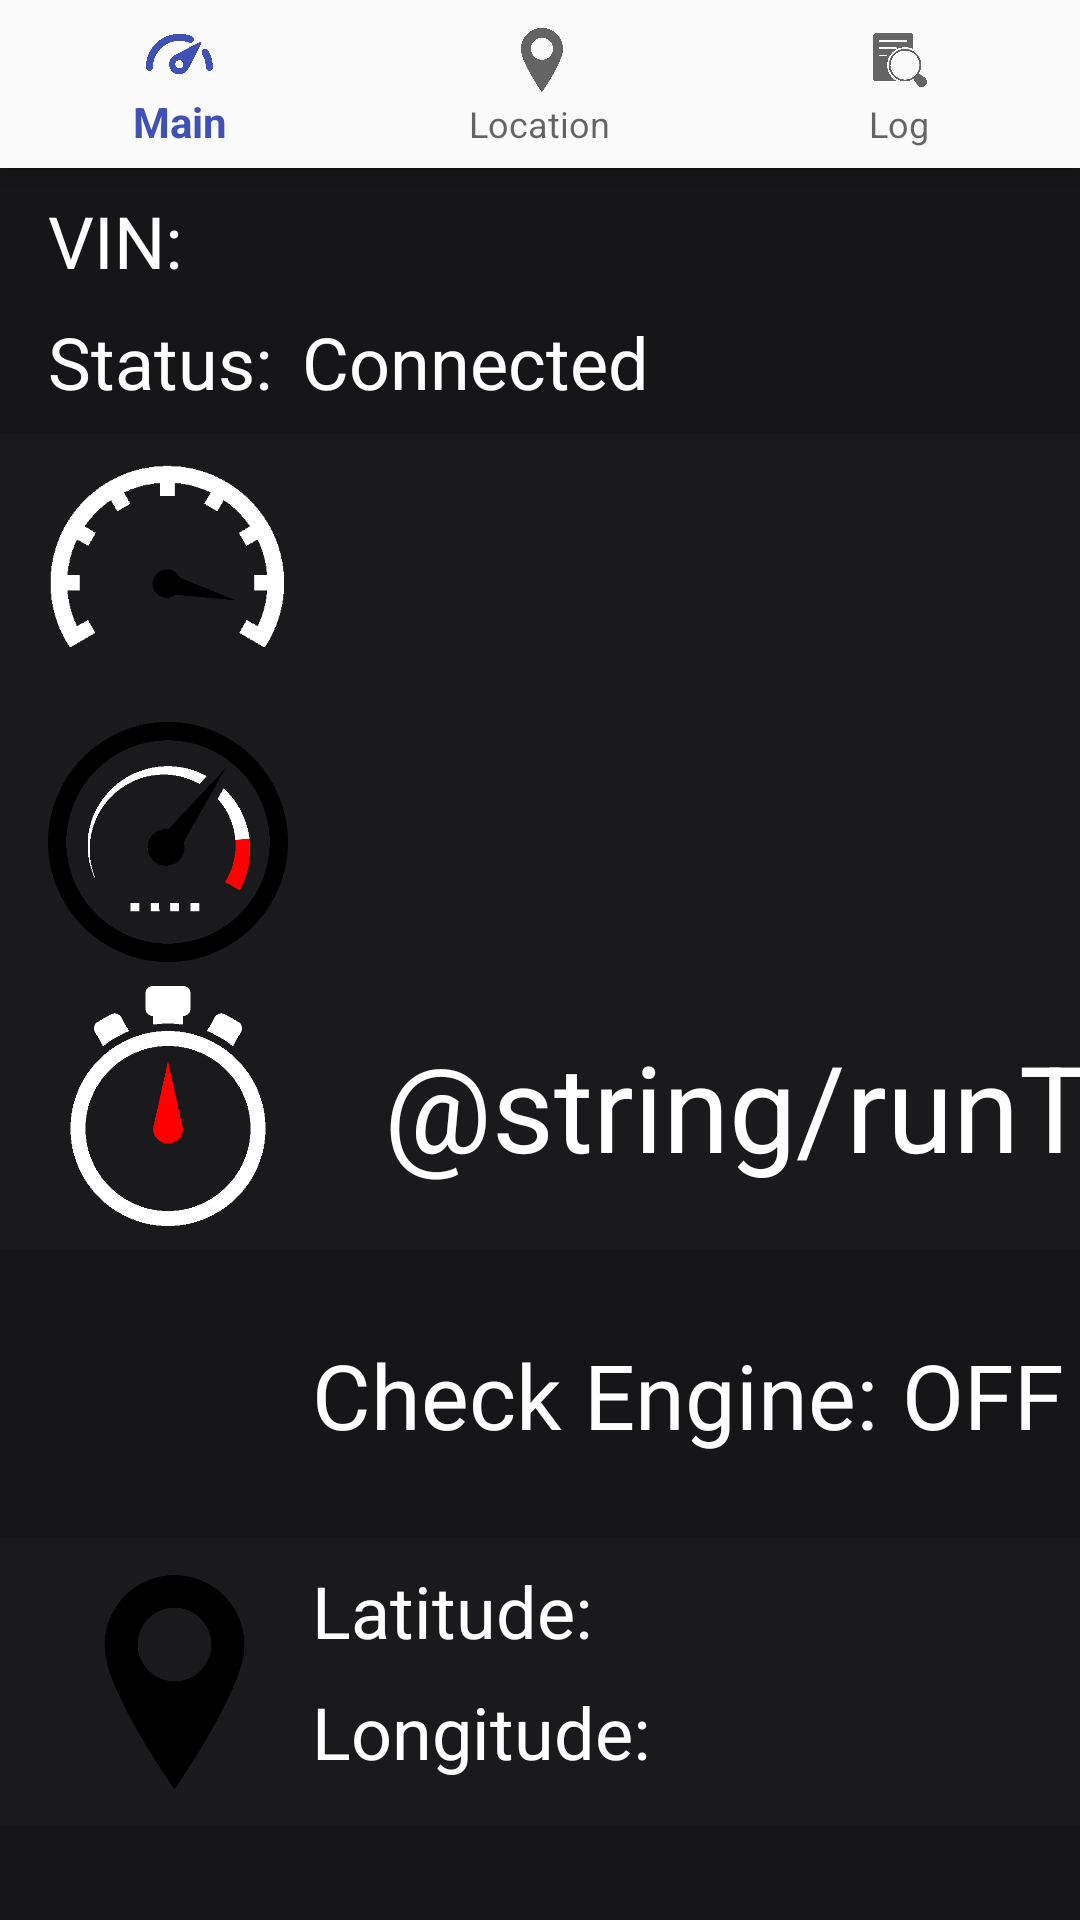

Icon click points for this 1080px×1920px phone screenshot, format (x=x, y=y):
speed: (x=167, y=556)
stopwatch: (x=168, y=1106)
